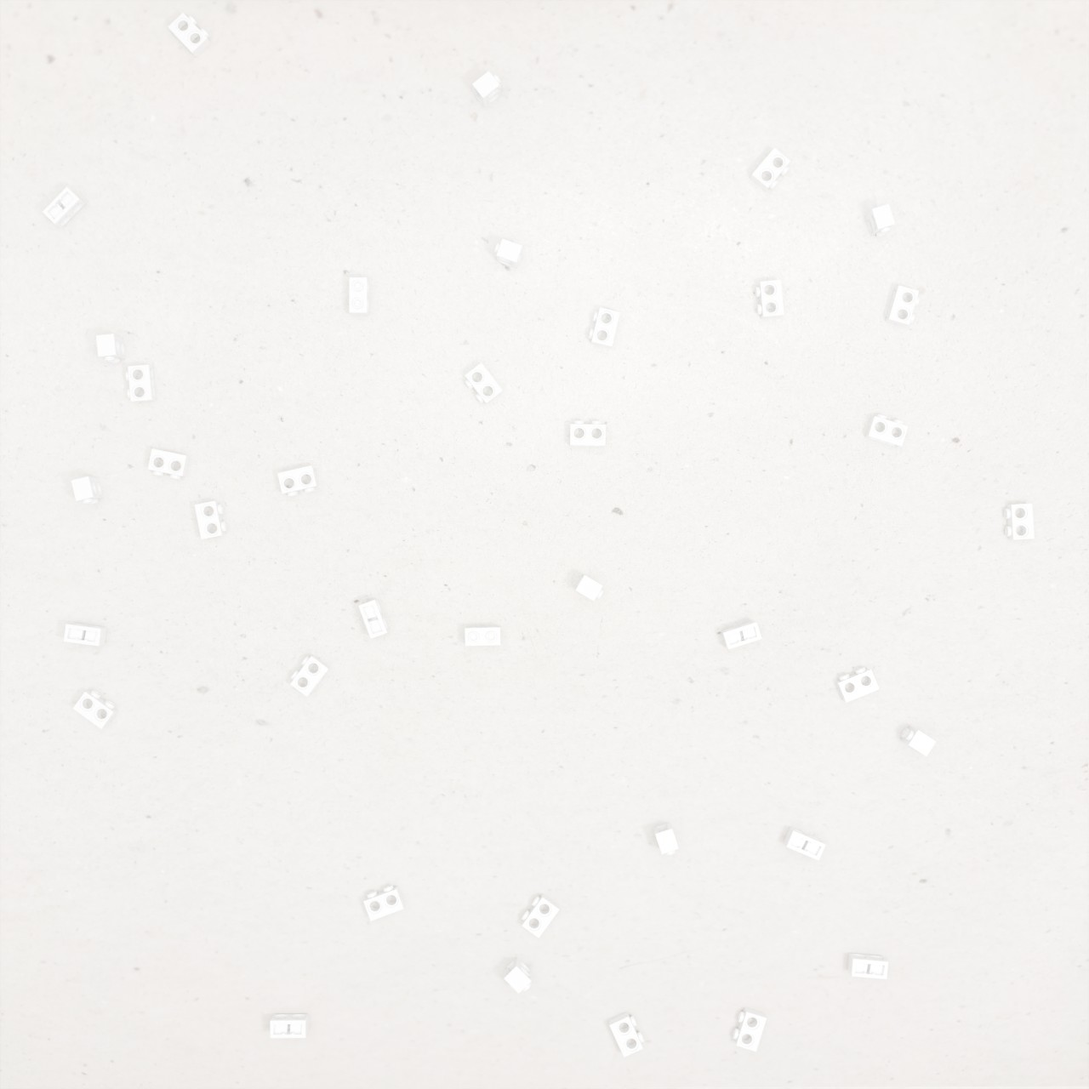lego: (168, 12, 211, 58), (42, 186, 86, 229), (749, 147, 791, 192), (73, 690, 118, 729), (521, 893, 560, 938), (290, 655, 331, 697), (609, 1011, 645, 1058), (464, 362, 503, 405), (835, 667, 879, 703), (732, 1007, 767, 1052), (363, 885, 405, 921), (885, 285, 920, 327), (865, 414, 908, 448), (783, 827, 826, 861), (588, 307, 621, 349), (277, 465, 319, 497), (148, 449, 191, 480), (194, 501, 227, 539), (358, 599, 389, 639), (721, 621, 762, 650), (126, 364, 156, 403), (1004, 503, 1035, 540), (755, 280, 784, 319), (900, 726, 936, 757), (847, 953, 888, 980), (472, 71, 501, 108), (504, 956, 532, 994), (864, 203, 895, 237), (63, 623, 107, 646), (71, 476, 104, 505), (570, 421, 606, 447), (270, 1014, 309, 1038), (96, 334, 126, 364), (494, 239, 523, 269), (653, 822, 679, 855), (575, 574, 604, 601), (349, 277, 369, 316), (465, 626, 501, 646)
